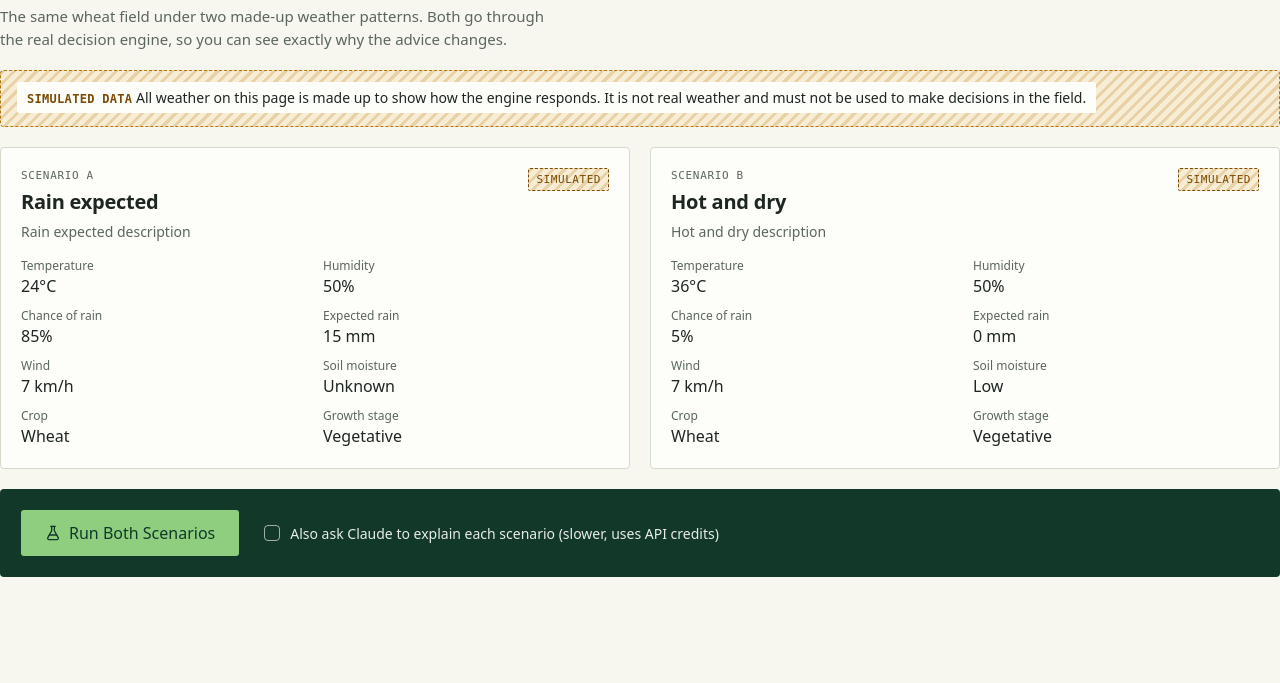
it: ScenarioLabPage › runs both and compares them side by side, still labelled simulated
Click the button "Run Both Scenarios": (130, 533) [20,509,240,557]
(page scrolled)
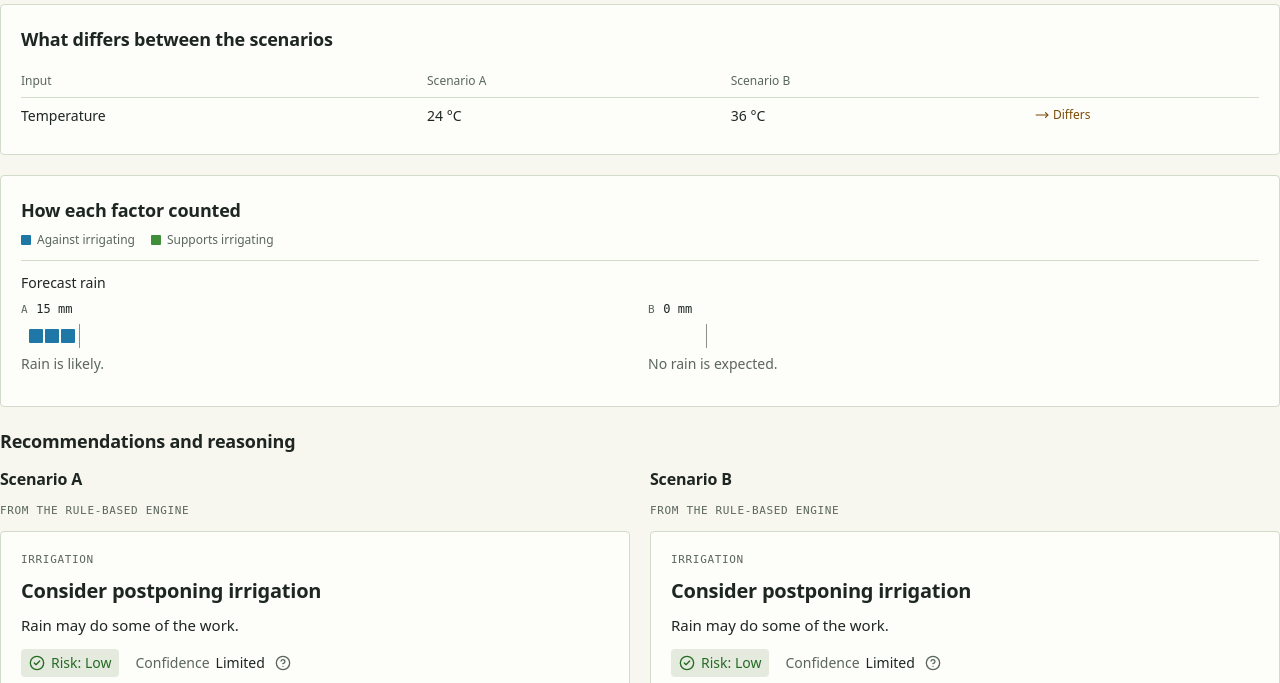
Now the list item with test id "comparison-forecast_rain" shows "Forecast rain", box [21,273,106,292]
